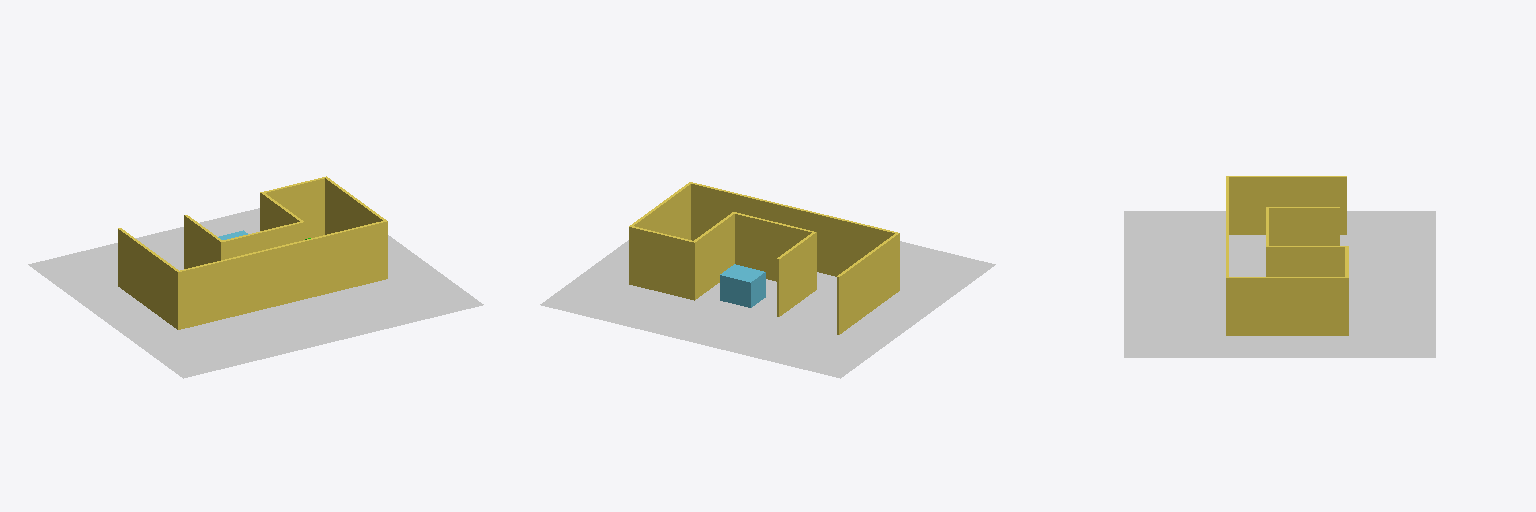
Rendered from for_test.obj.
The picture shows the model from 3 angles: view 1: azimuth 30°, elevation 25°; view 2: azimuth 150°, elevation 25°; view 3: azimuth 270°, elevation 25°; orthographic projection.
Parts seen in each view (by area): view 1: Wall, floor; view 2: Wall, floor, Box; view 3: floor, Wall.
Part boxes in pixels (left/top/right/bottom): Wall: left=118, top=176, right=387, bottom=329; floor: left=28, top=208, right=483, bottom=378; Wall: left=629, top=182, right=899, bottom=334; floor: left=540, top=240, right=995, bottom=378; Box: left=720, top=264, right=765, bottom=307; floor: left=1124, top=211, right=1435, bottom=357; Wall: left=1226, top=176, right=1348, bottom=335.
Bounding box in the file's own units: 524 × 96 × 469.